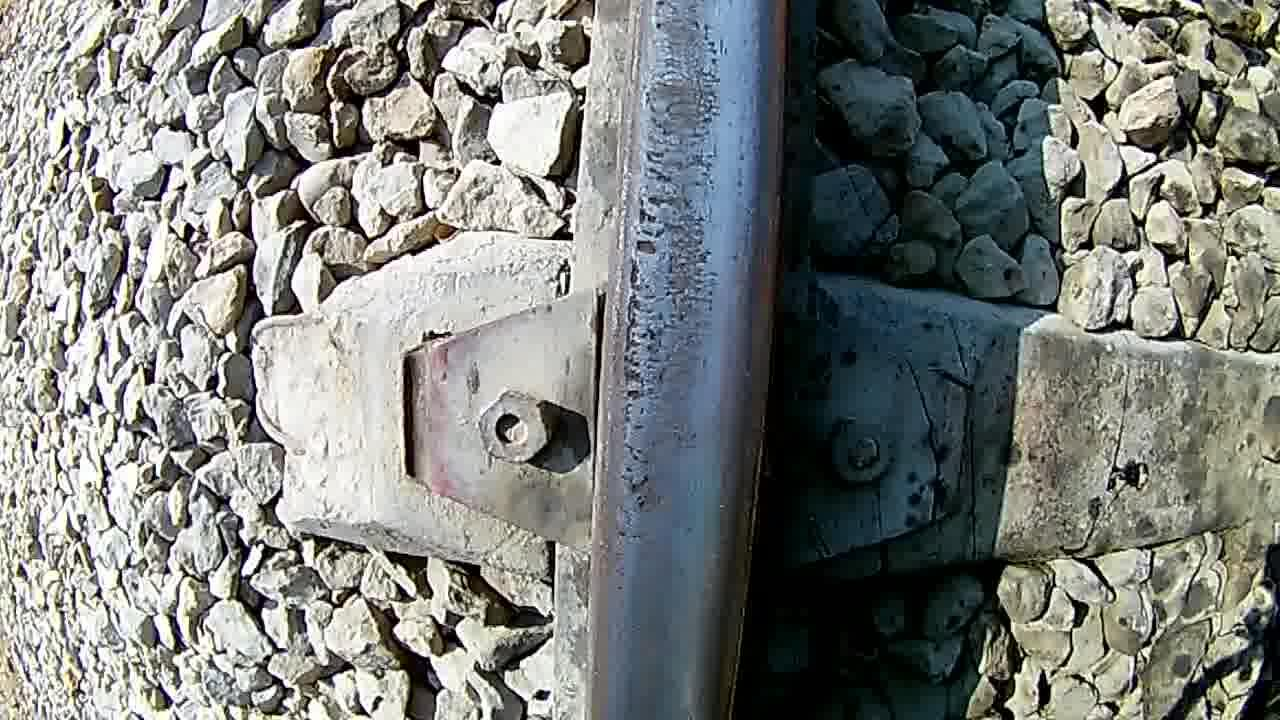crack: (590, 0, 774, 720)
